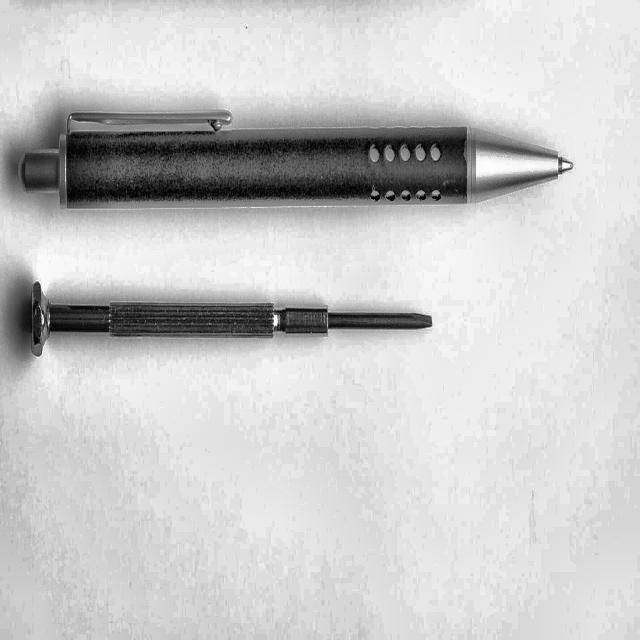Pen: (16, 83, 595, 234)
